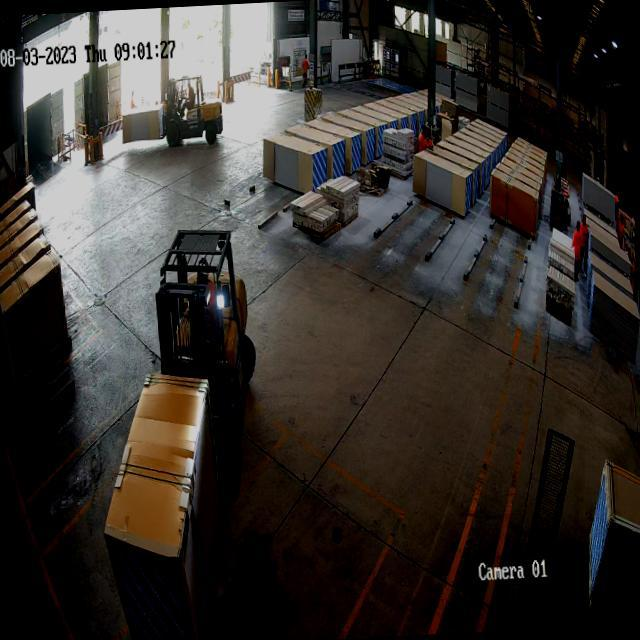forklift: (154, 219, 262, 495), (162, 71, 226, 153)
person: (571, 220, 583, 284), (579, 212, 590, 254), (419, 126, 425, 154), (302, 55, 308, 77), (425, 132, 433, 146)
